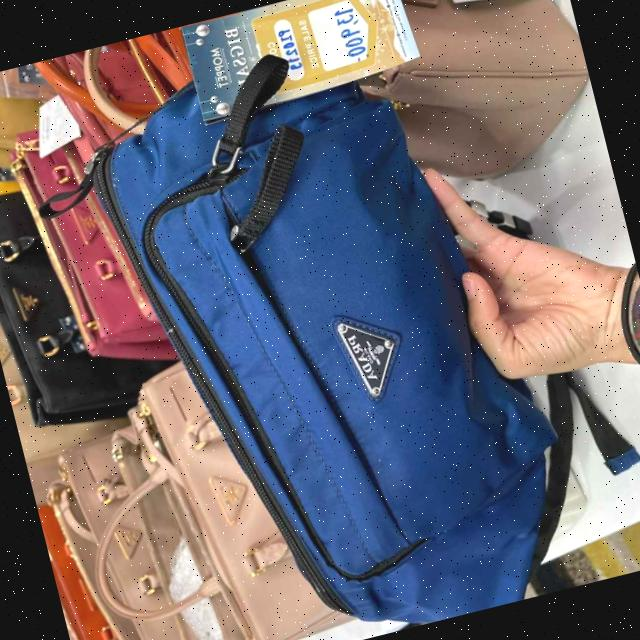handbag: (62, 1, 579, 640)
